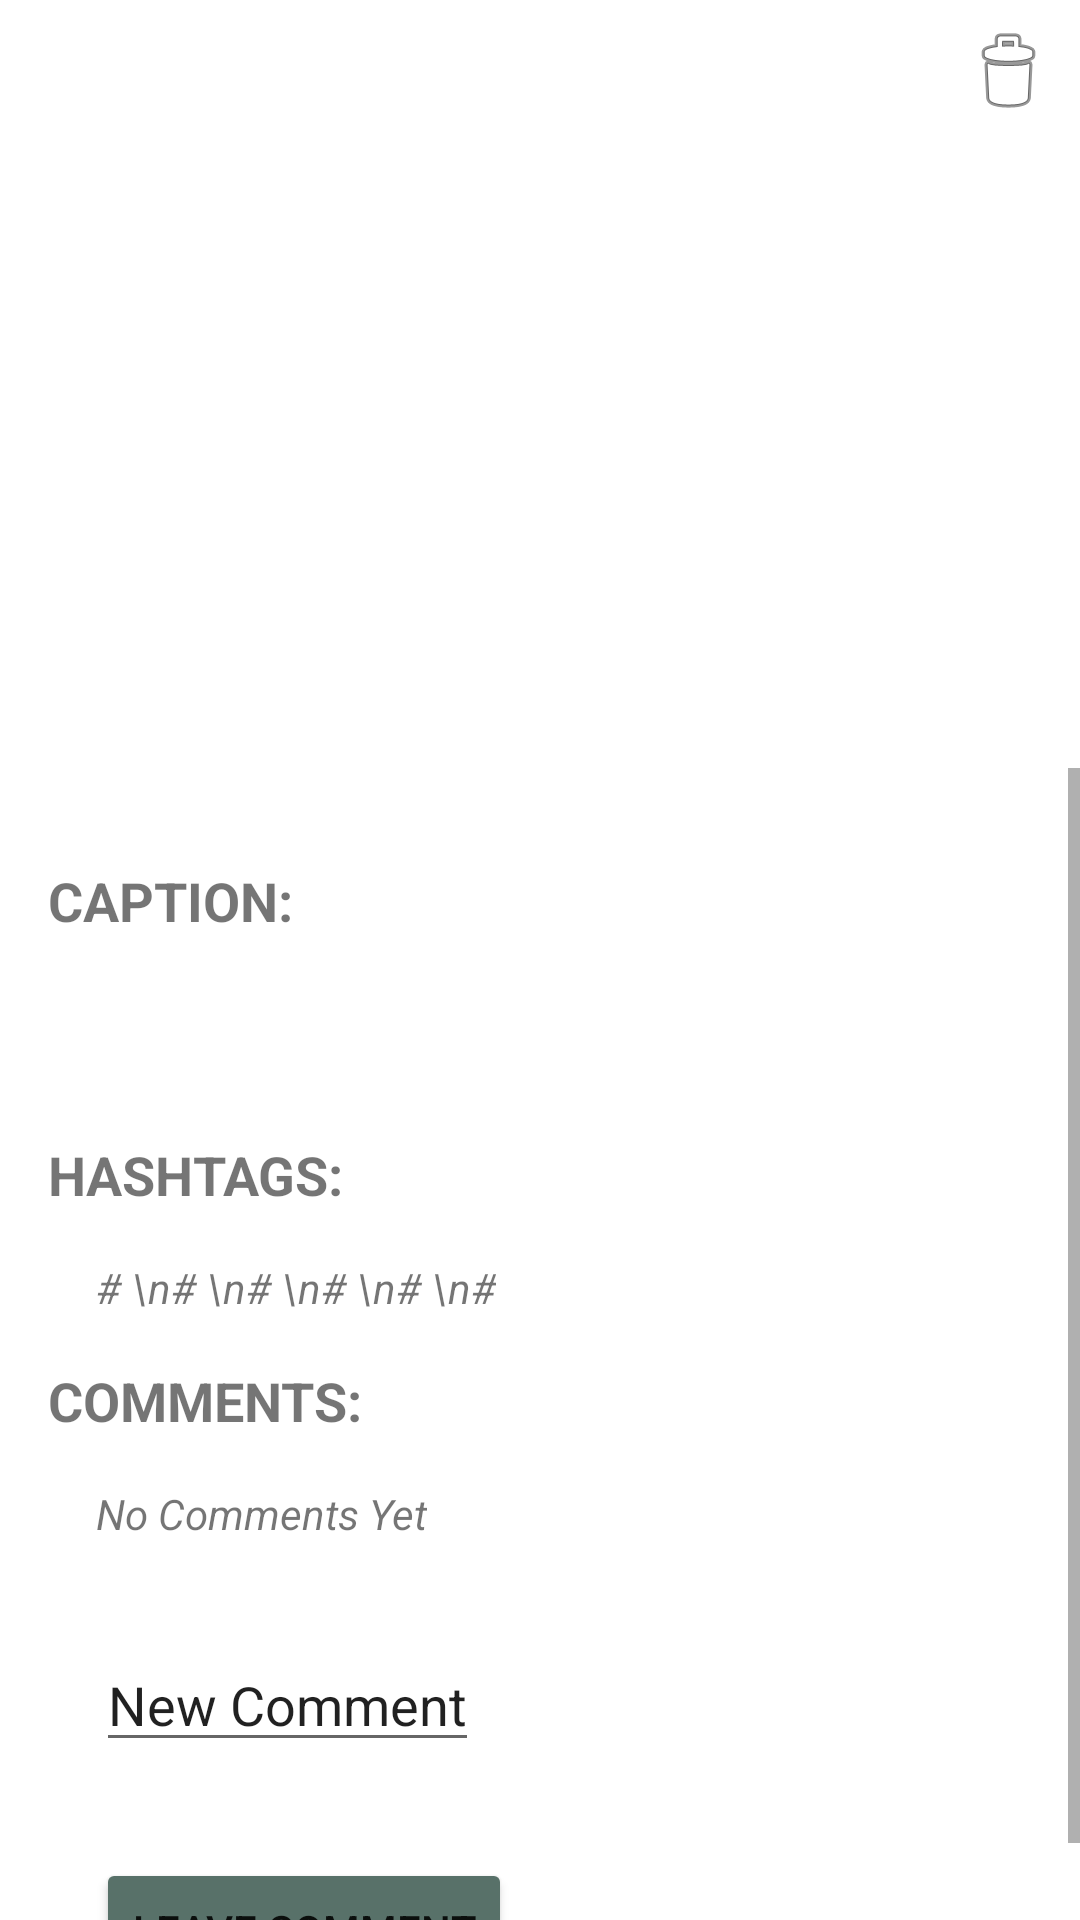

Screen size 1080px x 1920px. Icon name, then its box in pixels as (x1, y1, x2, y2):
delete: (981, 33, 1036, 108)
